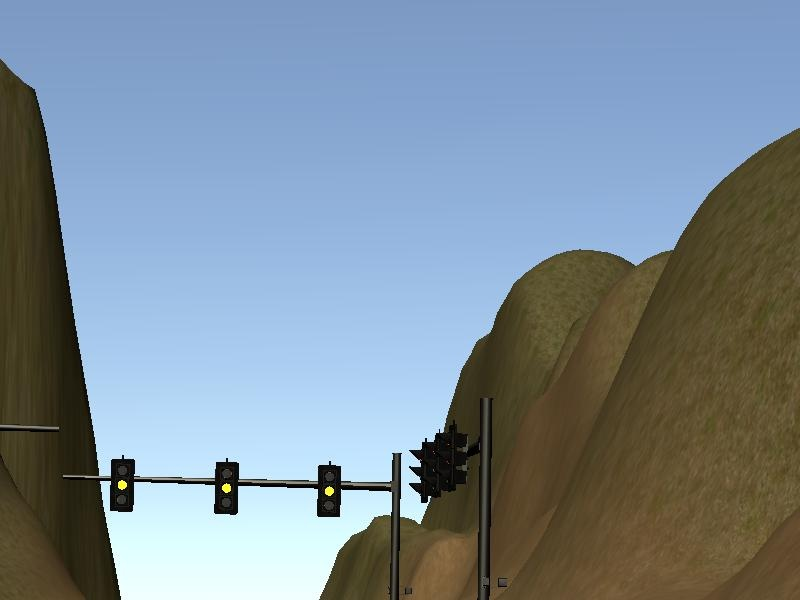Yellow: (110, 459, 134, 512), (318, 465, 341, 517), (215, 462, 238, 514)
